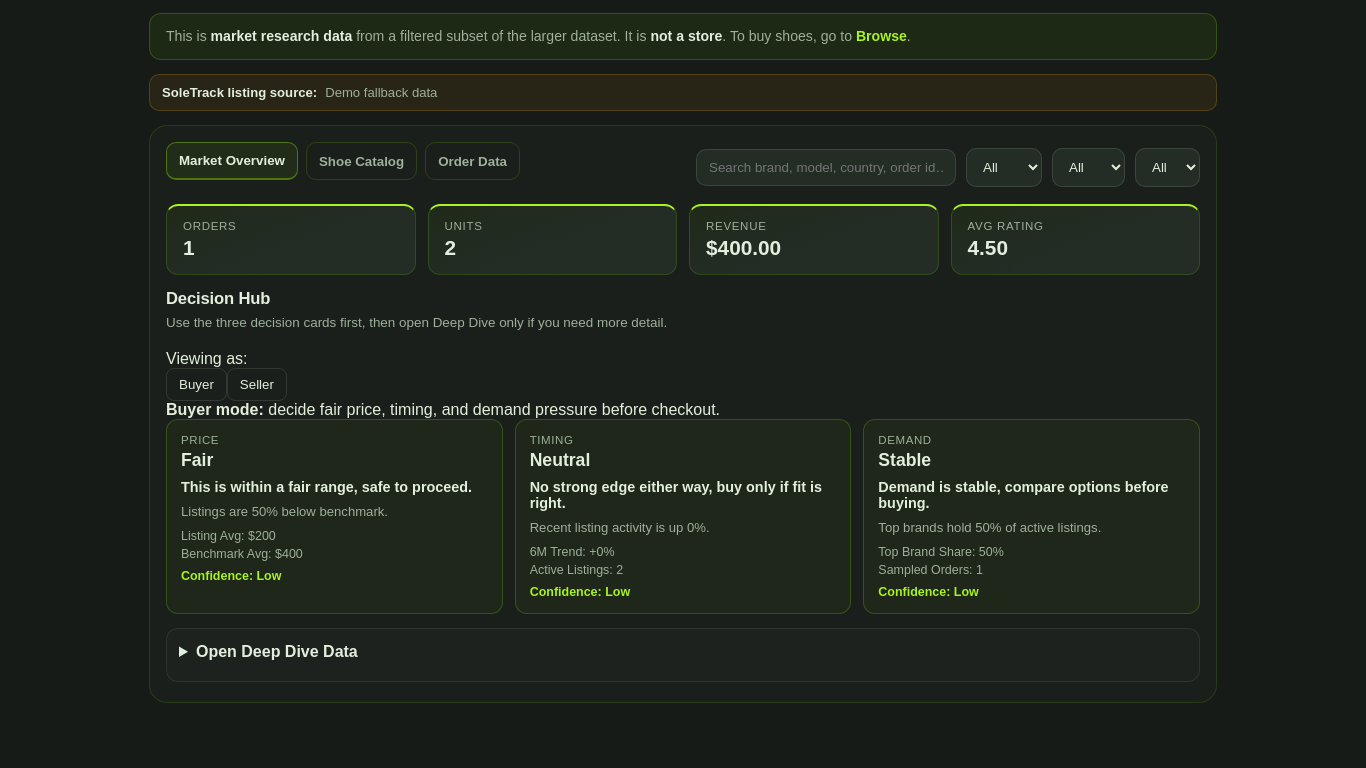
it: Analytics Decision Hub › updates recommendations when switching mode
(page scrolled)
Click the button with class "role-btn" showing "Seller": x=257, y=385 [227,368,287,401]
(page scrolled)
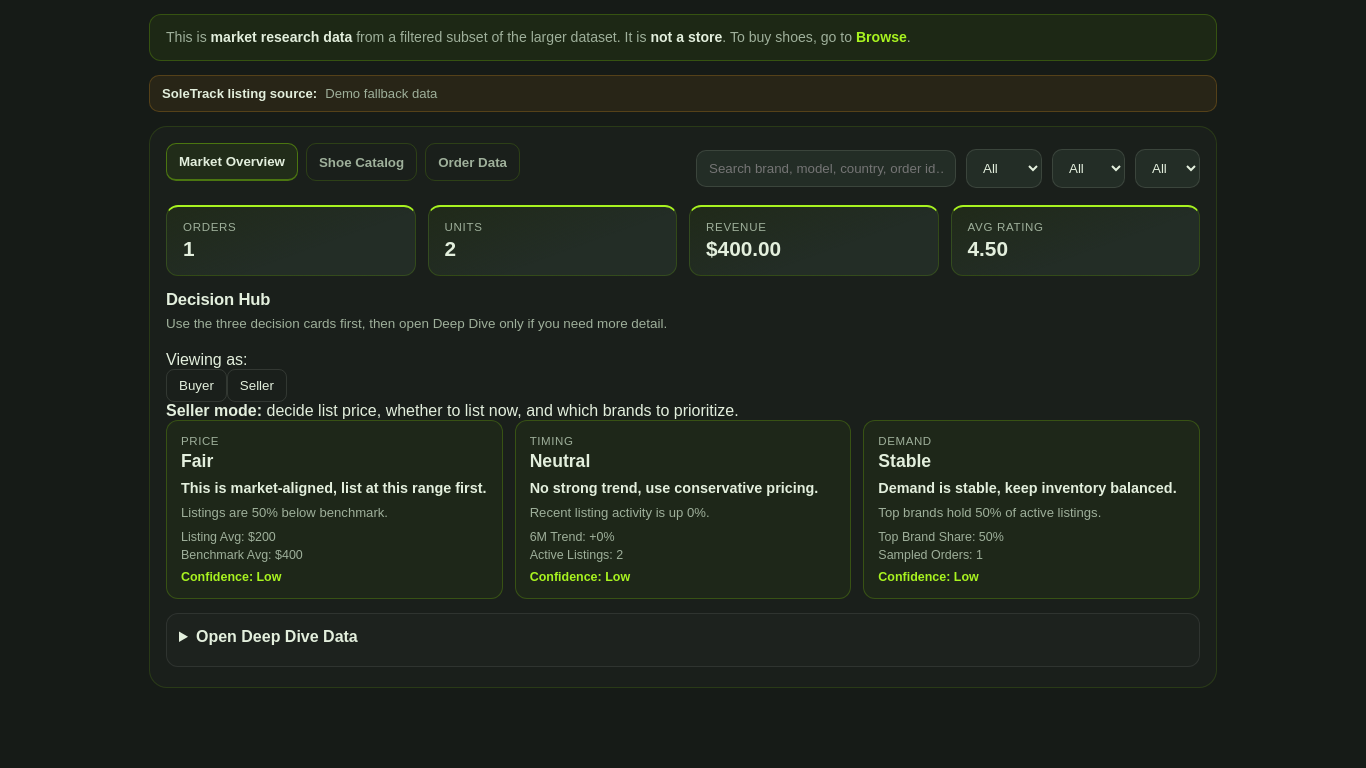
Expected: the text "Seller mode:" is shown, [166,402,262,419]
